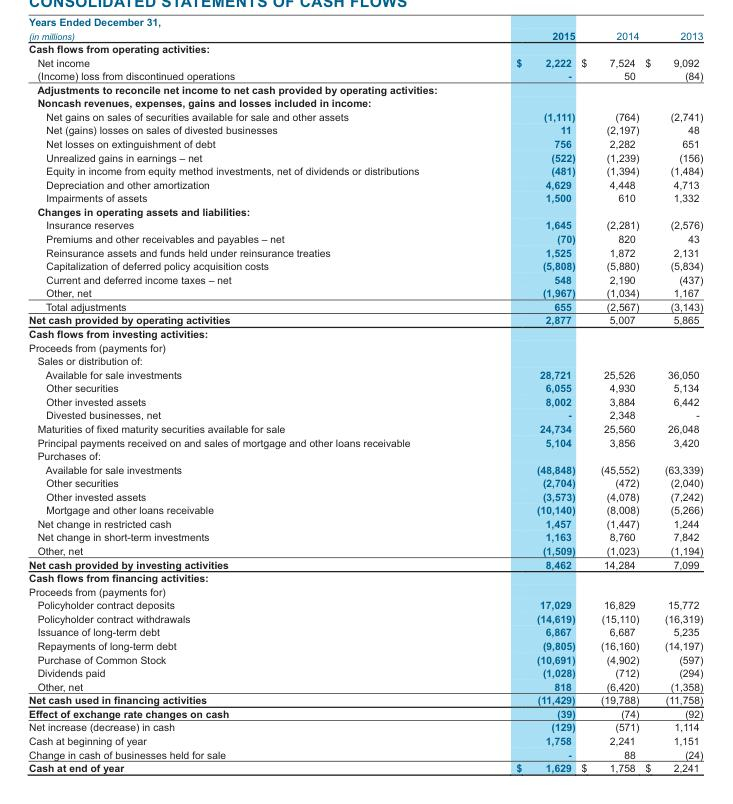table: (28, 29, 702, 773)
table column: (28, 29, 467, 773), (467, 29, 577, 773), (577, 29, 641, 773), (641, 29, 702, 773)
table column header: (28, 29, 702, 41)
table projected row header: (28, 41, 702, 55), (28, 82, 702, 96), (28, 204, 702, 218), (28, 326, 702, 340), (28, 353, 702, 367), (28, 448, 702, 462), (28, 570, 702, 584), (28, 96, 702, 109), (28, 340, 702, 353), (28, 584, 702, 597)
table row: (28, 41, 702, 55), (28, 68, 702, 82), (28, 82, 702, 96), (28, 109, 702, 123), (28, 136, 702, 150), (28, 163, 702, 177), (28, 190, 702, 204), (28, 204, 702, 218), (28, 231, 702, 245), (28, 258, 702, 272), (28, 285, 702, 299), (28, 299, 702, 313), (28, 326, 702, 340), (28, 353, 702, 367), (28, 380, 702, 394), (28, 394, 702, 408), (28, 421, 702, 435), (28, 448, 702, 462), (28, 475, 702, 489), (28, 502, 702, 516), (28, 516, 702, 530), (28, 543, 702, 557), (28, 570, 702, 584), (28, 597, 702, 611), (28, 611, 702, 625), (28, 638, 702, 652), (28, 665, 702, 679), (28, 692, 702, 706), (28, 706, 702, 720), (28, 733, 702, 747), (28, 55, 702, 68), (28, 96, 702, 109), (28, 123, 702, 136), (28, 150, 702, 163), (28, 177, 702, 190), (28, 218, 702, 231), (28, 245, 702, 258), (28, 272, 702, 285), (28, 313, 702, 326), (28, 340, 702, 353), (28, 367, 702, 380), (28, 408, 702, 421), (28, 435, 702, 448), (28, 462, 702, 475), (28, 489, 702, 502), (28, 530, 702, 543), (28, 557, 702, 570), (28, 584, 702, 597), (28, 625, 702, 638), (28, 652, 702, 665), (28, 679, 702, 692), (28, 720, 702, 733), (28, 747, 702, 760), (28, 760, 702, 773), (28, 29, 702, 41)
